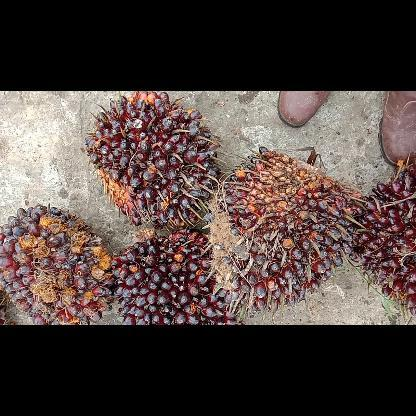Kurang masak: (204, 141, 359, 317), (82, 90, 222, 232), (0, 201, 117, 325), (108, 228, 250, 324), (342, 164, 414, 314)
